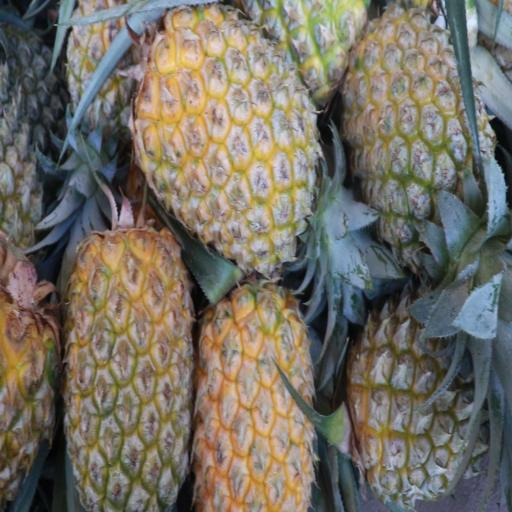------------------------------: (347, 15, 488, 253), (349, 280, 480, 500), (62, 0, 147, 139)
Pineapple - v8 v1: (141, 9, 305, 270), (66, 235, 192, 512), (195, 293, 312, 512), (0, 265, 65, 511), (254, 0, 368, 98)
